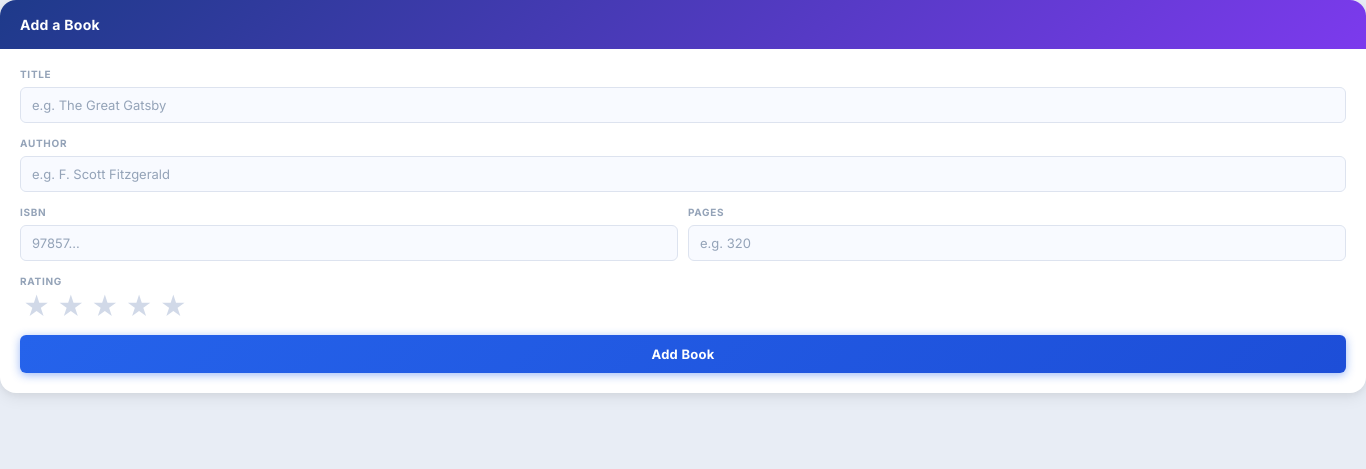
Test case: AddBookForm › shows API error on 409 duplicate ISBN
The width and height of the screenshot is (1366, 469).
In the field labelled "Title": coordinates (683, 105) [20,87,1346,123], type "My Book"
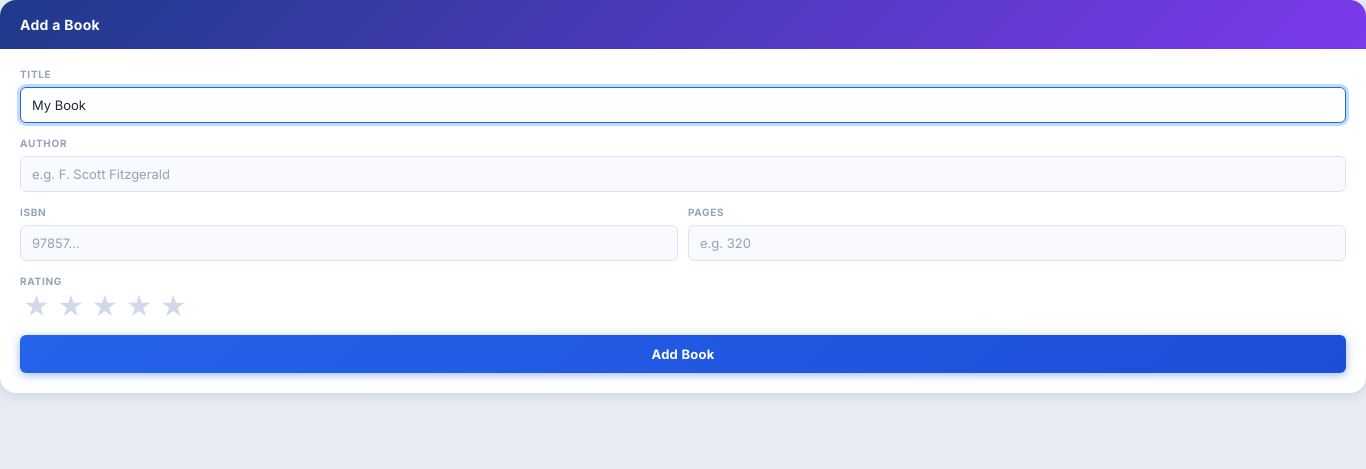
In the field labelled "Author": coordinates (683, 174) [20,156,1346,192], type "Author"
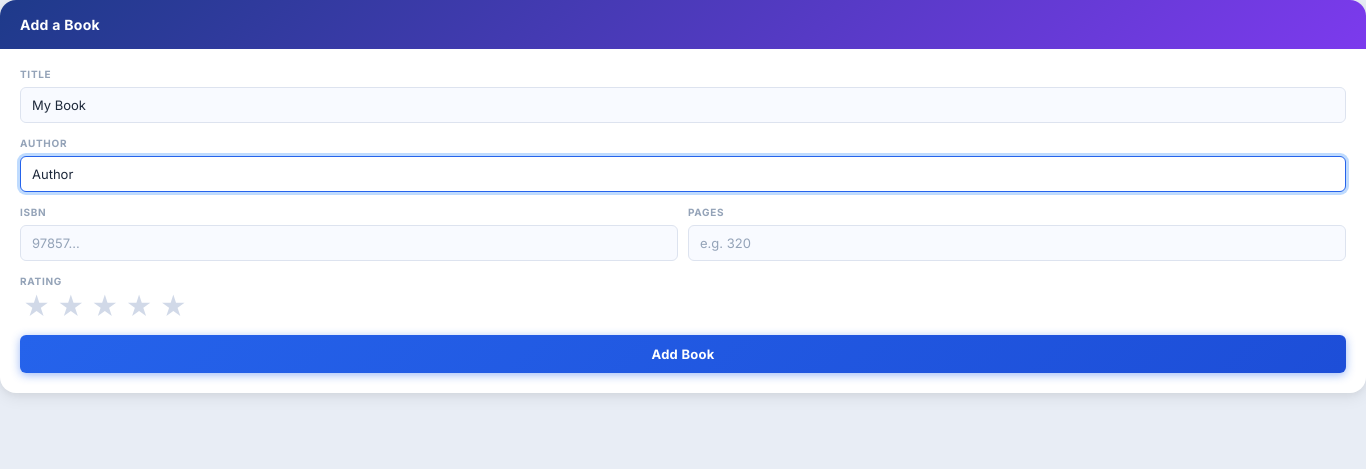
In the field labelled "ISBN": coordinates (349, 243) [20,225,678,261], type "1234567890"
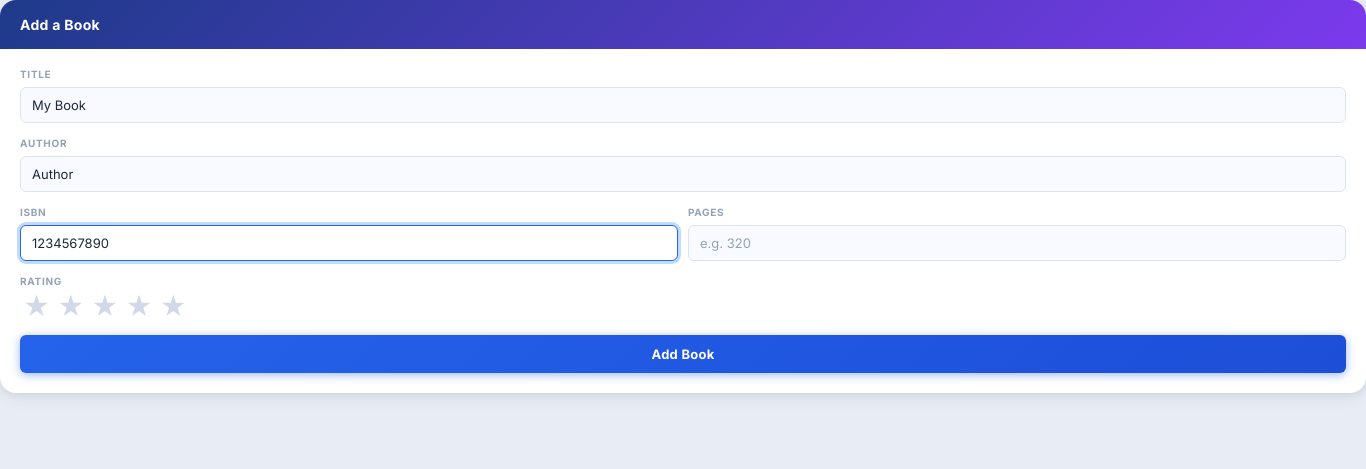
In the number field labelled "Pages": coordinates (1017, 243) [688,225,1346,261], type "200"
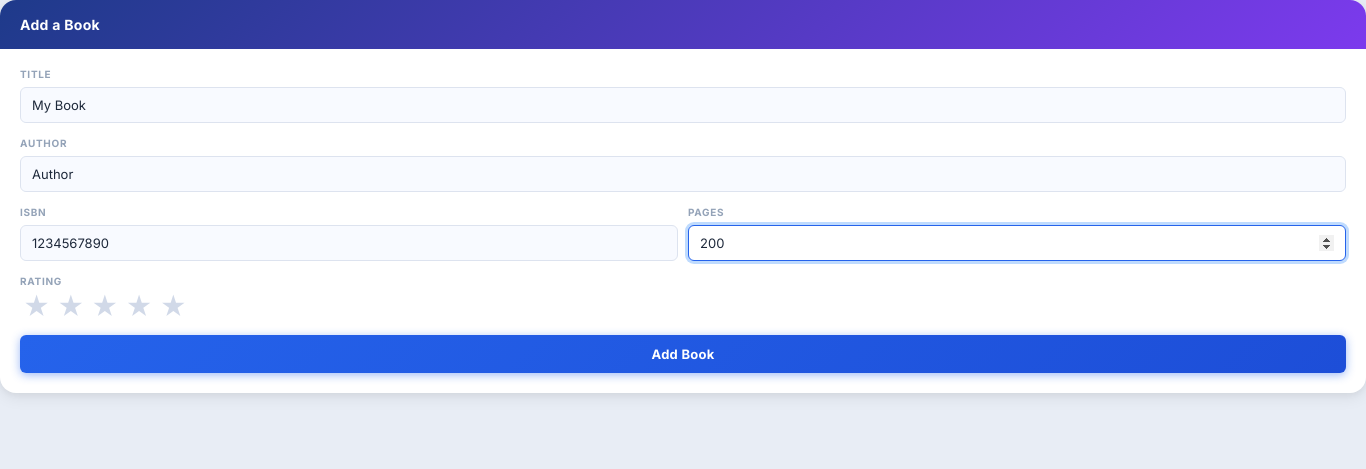
Click the button named "rate 3": coordinates (105, 307) [88,294,122,320]
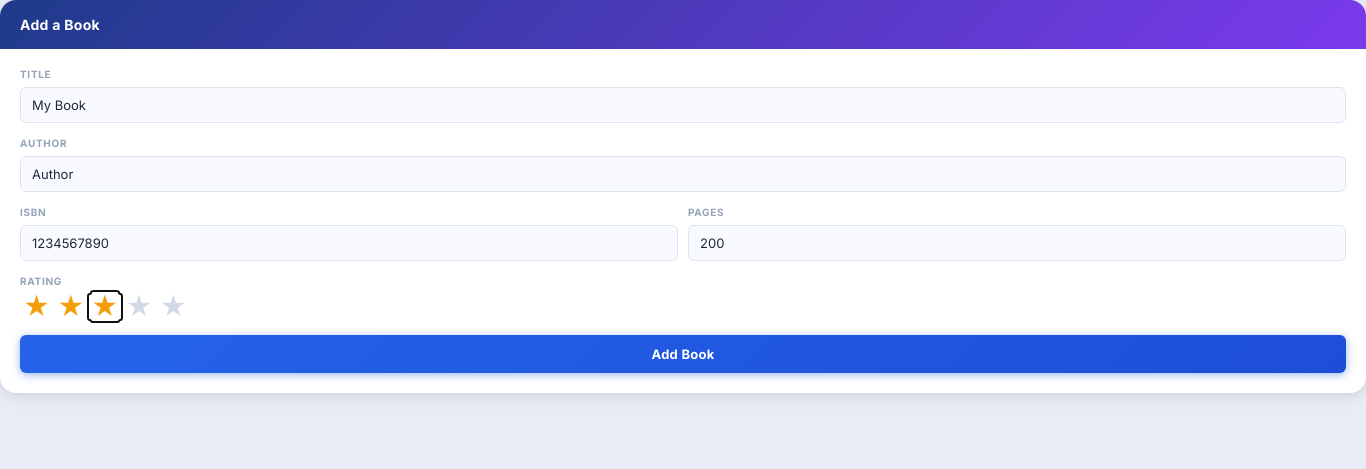
Click the button "Add Book": coordinates (683, 354) [20,335,1346,373]
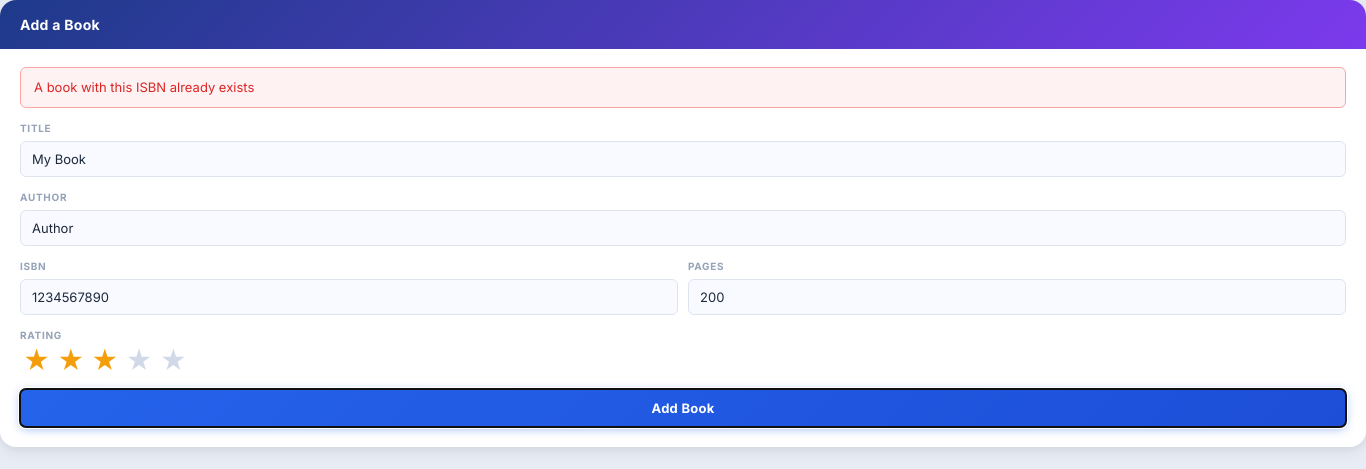
Expected: the message reads "A book with this ISBN already exists", [34,79,254,95]
